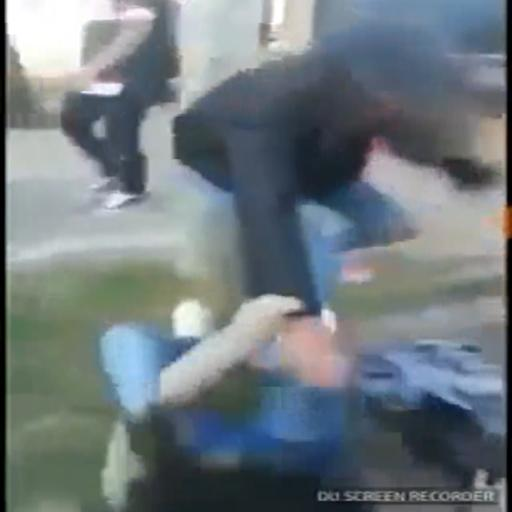violencia: (74, 18, 504, 512)
